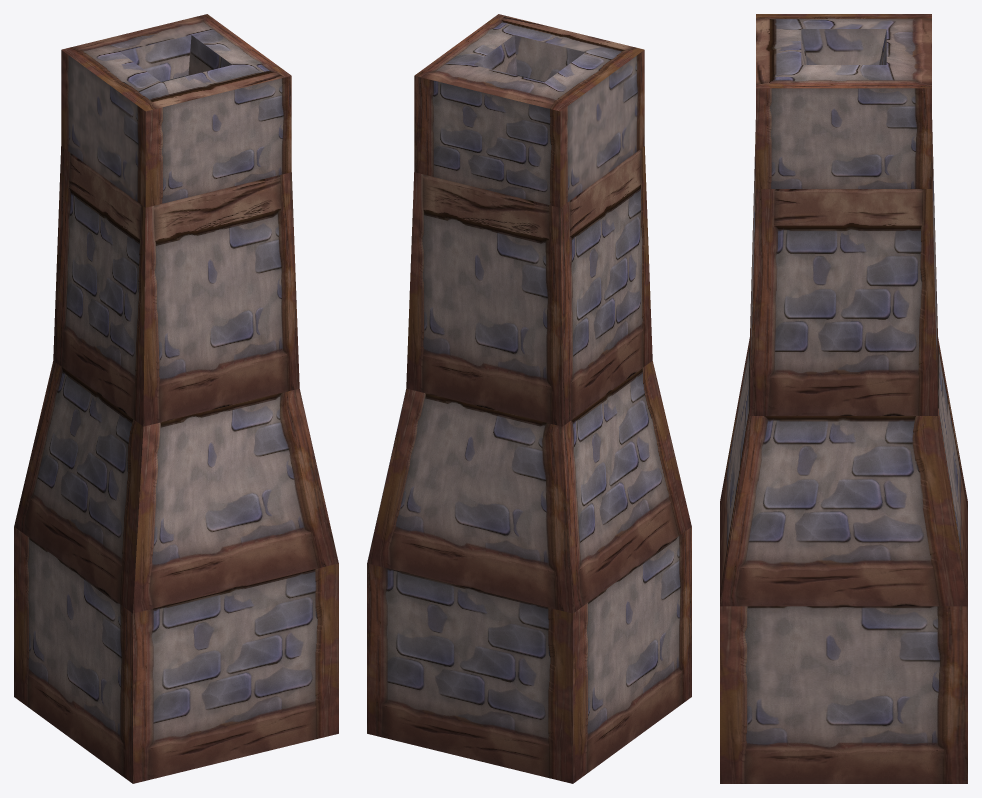
File: chamine.fbx
3 renders of one model, left to right at view 1: azimuth 30°, elevation 25°; view 2: azimuth 150°, elevation 25°; view 3: azimuth 270°, elevation 25°, orthographic. The views are drawn at different scales.
Visible parts, largest first — view 1: chamine; view 2: chamine; view 3: chamine.
Boxes of the visible parts, x1,y1,x2,y2 form: chamine: (14, 14, 338, 783); chamine: (367, 14, 691, 783); chamine: (720, 14, 967, 783).
Bounding box in the file's own units: 62.09 × 189 × 62.09.
